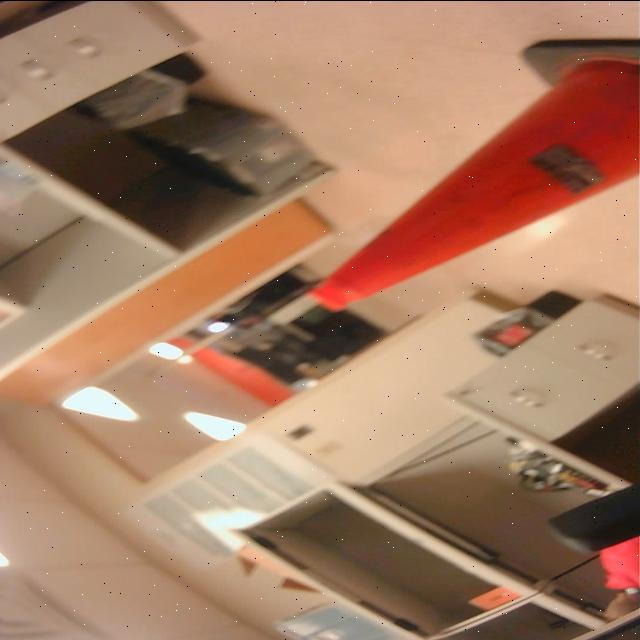traffic cone: (302, 35, 640, 316)
